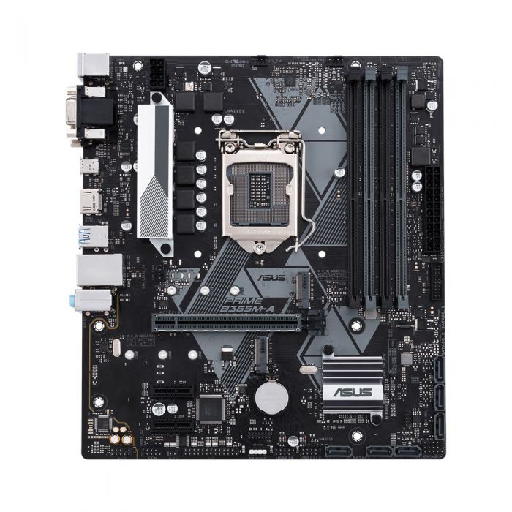CPU: (217, 128, 300, 252)
GPU: (150, 311, 325, 335)
MOTHERBOARD: (80, 53, 444, 459)
RAM: (344, 66, 410, 319)
SSD: (294, 270, 312, 310), (251, 338, 271, 373)
